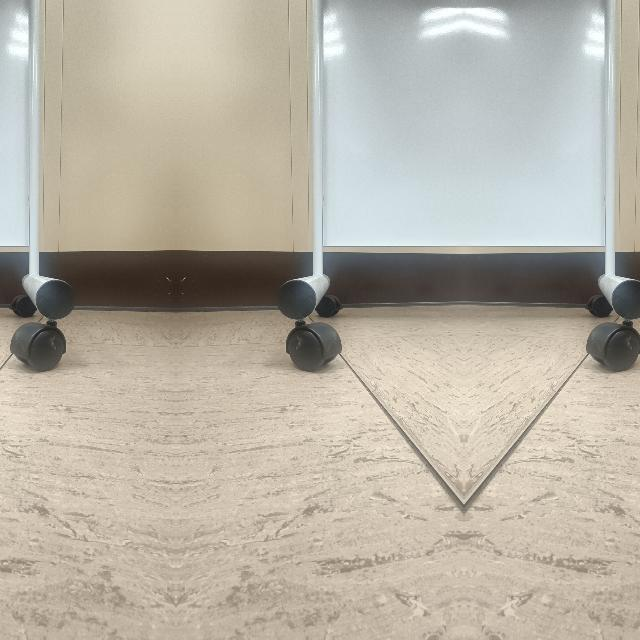obstacle: (276, 206, 348, 372), (2, 206, 74, 372), (580, 206, 640, 372)
